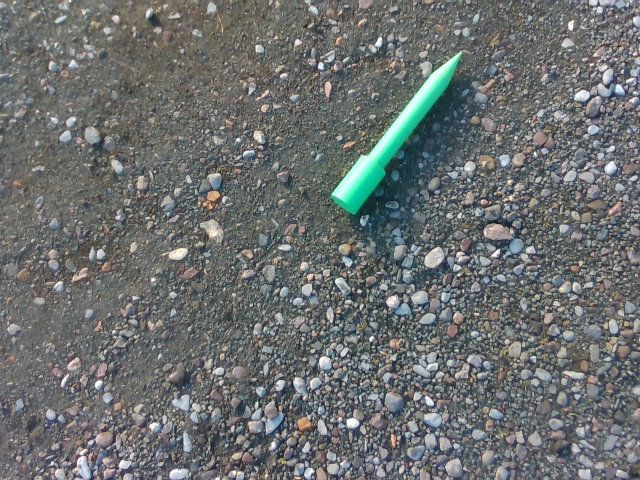Probe: (327, 45, 470, 221)
